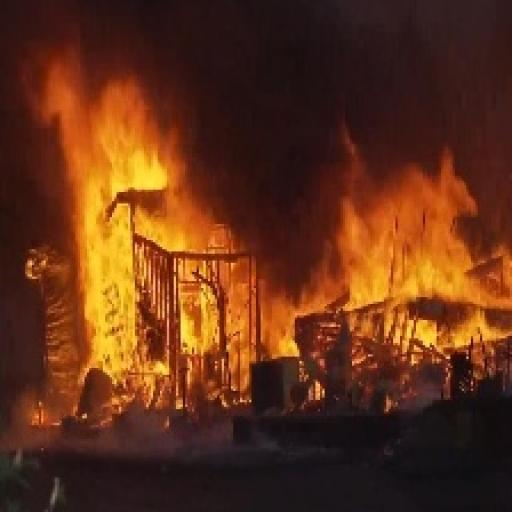fire and smoke: (5, 3, 473, 310)
